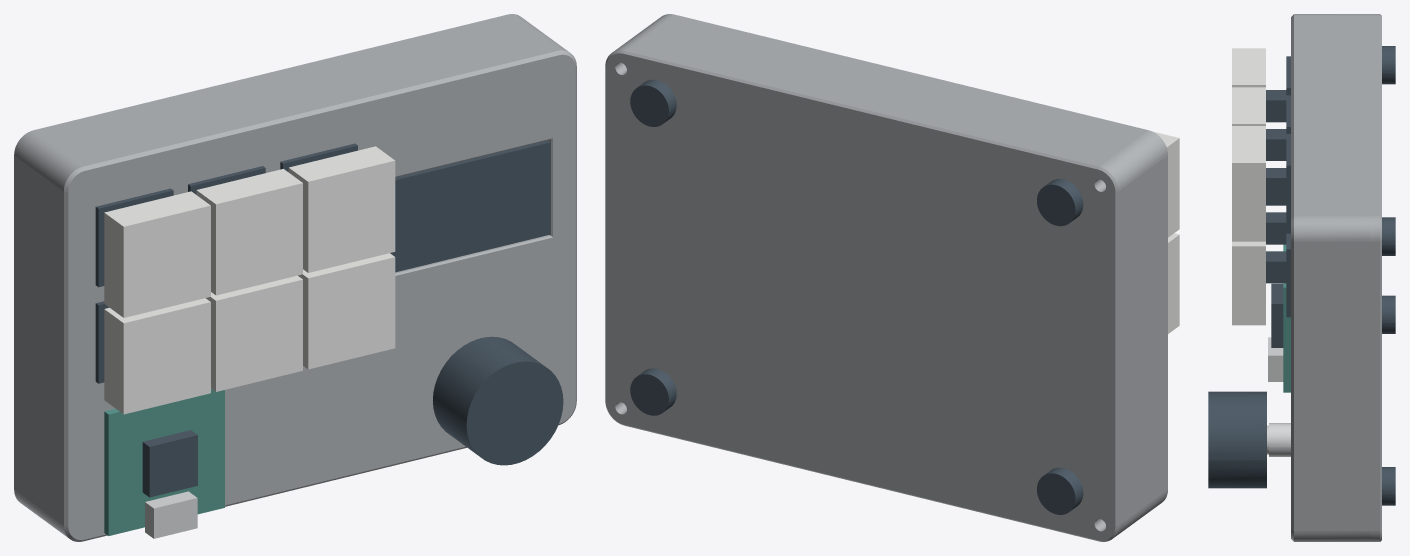
Rendered from .compact_model.step.glb.
3 renders of one model, left to right at view 1: azimuth 30°, elevation 25°; view 2: azimuth 150°, elevation 25°; view 3: azimuth 270°, elevation 25°, orthographic. The views are drawn at different scales.
Visible parts, largest first — view 1: o1.1, o1.28, o1.38, o1.16, o1.4, o1.24, o1.20, o1.29, o1.12, o1.8, o1.2, o1.30 (+5 smaller); view 2: o1.2, o1.1, o1.40, o1.39, o1.41, o1.42, o1.16, o1.4; view 3: o1.1, o1.2, o1.38, o1.24, o1.12, o1.16, o1.20, o1.23, o1.11, o1.15, o1.19, o1.30 (+8 smaller).
Part boxes in pixels (x1,y1,x2,y2): o1.1: (19, 18, 576, 541); o1.28: (390, 140, 550, 272); o1.38: (433, 336, 563, 465); o1.16: (104, 191, 210, 317); o1.4: (104, 298, 210, 414); o1.24: (288, 146, 395, 272); o1.20: (196, 169, 302, 295); o1.29: (104, 388, 224, 535); o1.12: (298, 253, 395, 369); o1.8: (206, 275, 302, 391); o1.2: (14, 14, 524, 505); o1.30: (142, 430, 197, 497); o1.2: (605, 46, 1123, 541); o1.1: (619, 14, 1167, 533); o1.40: (630, 368, 676, 415); o1.39: (1037, 467, 1083, 514); o1.41: (1037, 179, 1083, 226); o1.42: (630, 79, 676, 126); o1.16: (1153, 131, 1179, 237); o1.4: (1168, 233, 1179, 333); o1.1: (1291, 14, 1370, 541); o1.2: (1370, 14, 1381, 541); o1.38: (1208, 391, 1266, 488); o1.24: (1232, 126, 1265, 241); o1.12: (1232, 241, 1265, 325); o1.16: (1232, 48, 1265, 87); o1.20: (1232, 87, 1265, 125); o1.23: (1266, 134, 1290, 233); o1.11: (1266, 233, 1290, 317); o1.15: (1266, 56, 1290, 122); o1.19: (1266, 95, 1290, 160); o1.30: (1271, 283, 1283, 347).
Size of the model in its own units: 0.106 by 0.074 by 0.0387.
